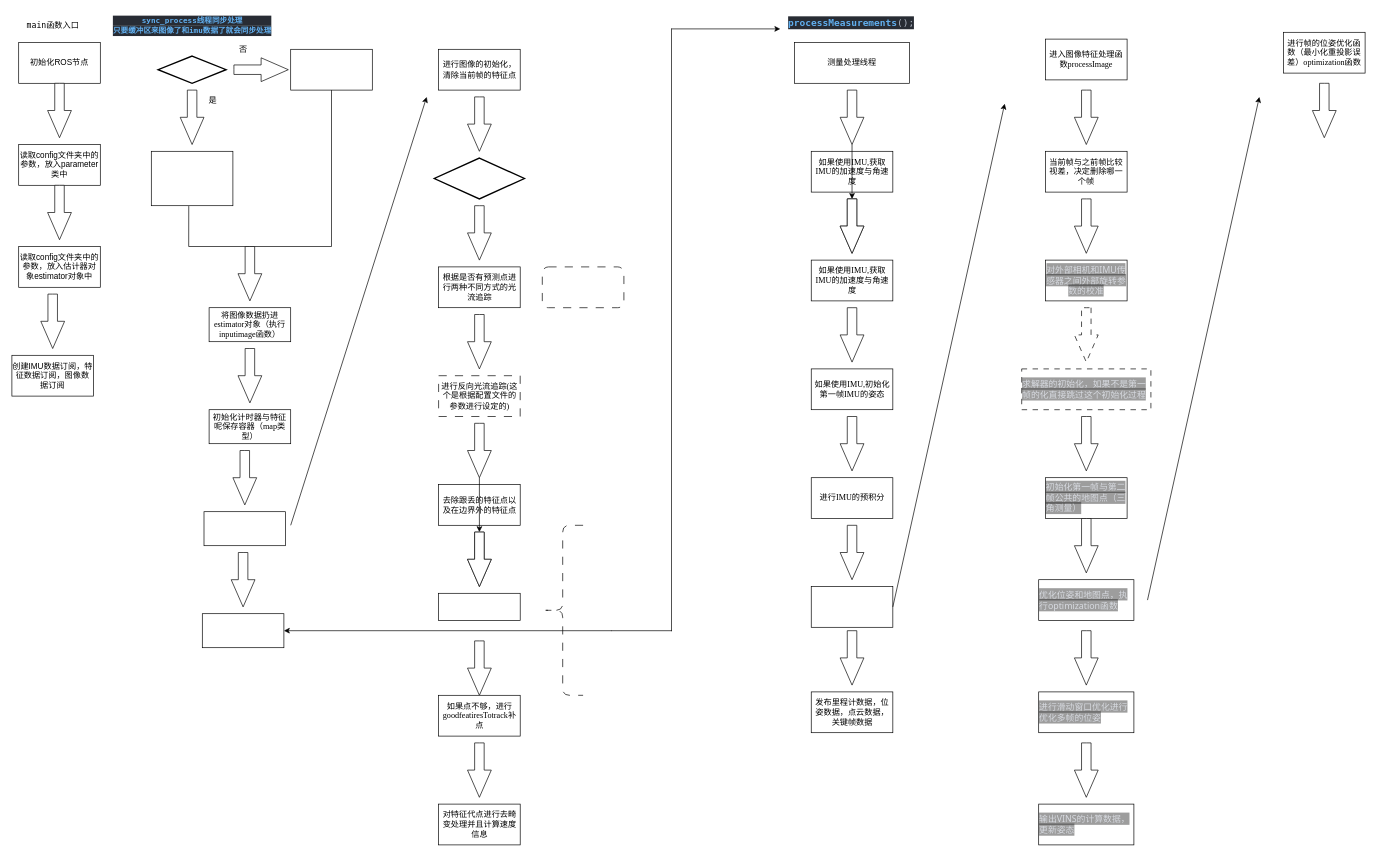
Image size: 1377x857. Some labels were removed from this diagram. The centre of each missing label's shape, as x and y in pixels:
"判断是否有预测点" goes at point 479,178.
"图像跟踪完毕将图像放入featureBuf缓冲区" goes at point 243,630.
"是否是双目" goes at point 191,69.
"直接获取缓冲区图像队列的头front指针指向的图像数据" goes at point 331,69.
"设置掩膜Mask" goes at point 479,606.
"这里的主要区别在于是否采用初始光流估计" goes at point 583,287.
"进行两张图像的时间戳对其（保证正负0.003秒），对其后从图像缓冲区拿到图像并且弹出图像" goes at point 192,178.
"进行图像的处理，执行processImage函数" goes at point 852,606.
"进行图像跟踪（trackimage）" goes at point 244,528.
